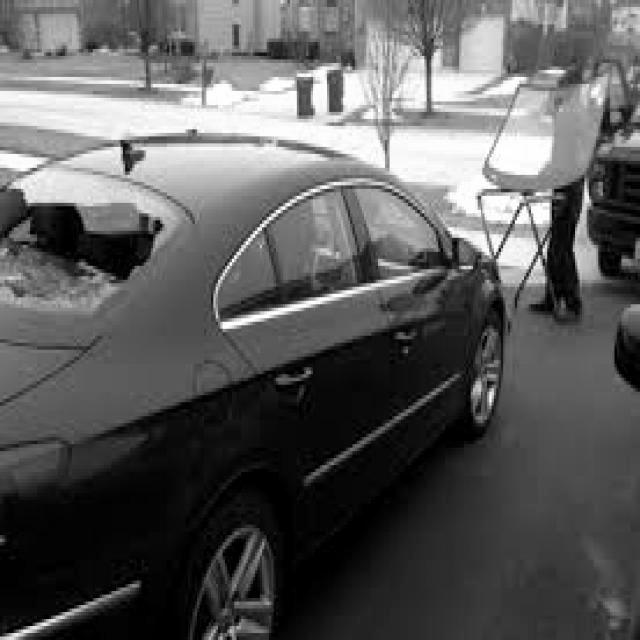Rear-windscreen-Damage: (0, 168, 180, 325)
